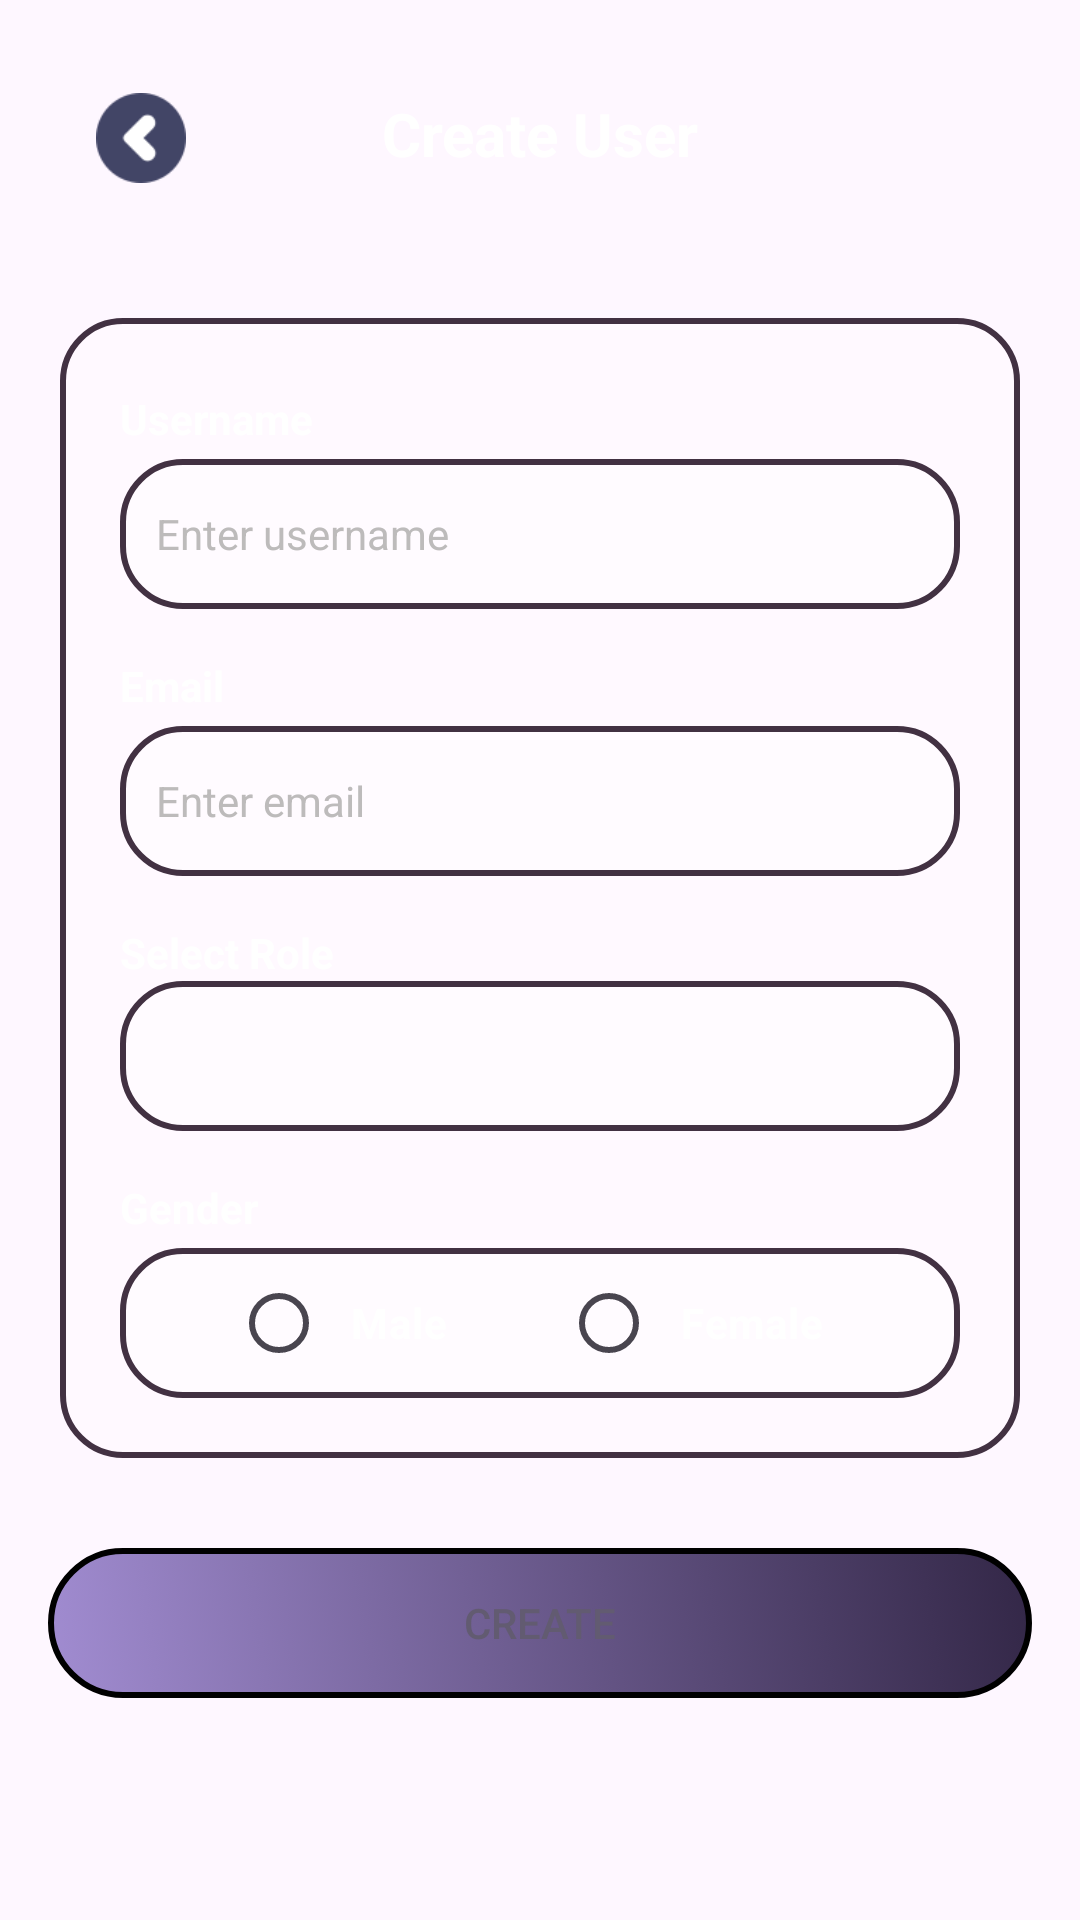

Named icons in this screenshot (1080 x 1920) and their bounding boxes, (x1, y1, x2, y2):
back bin: (96, 93, 186, 183)
